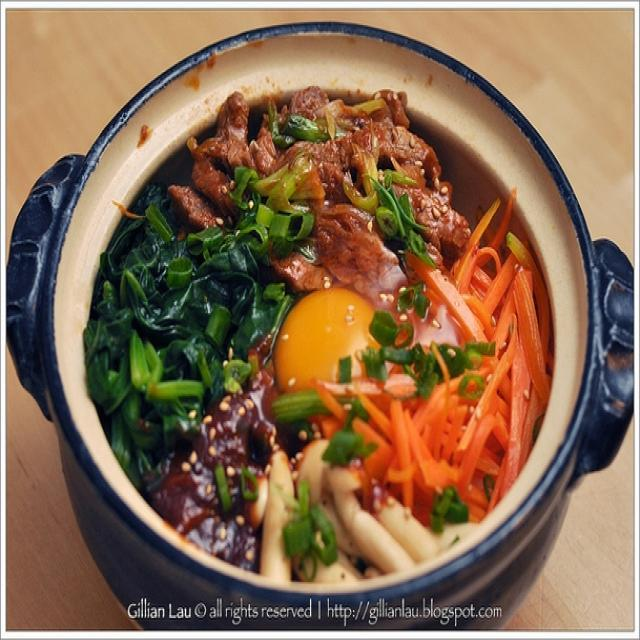汤锅炖物: (36, 28, 607, 610)
